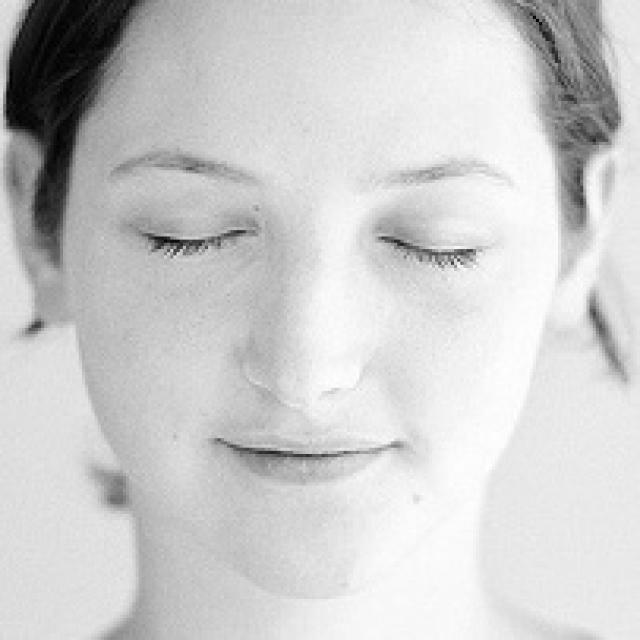real: (63, 10, 579, 609), (137, 160, 538, 292)
